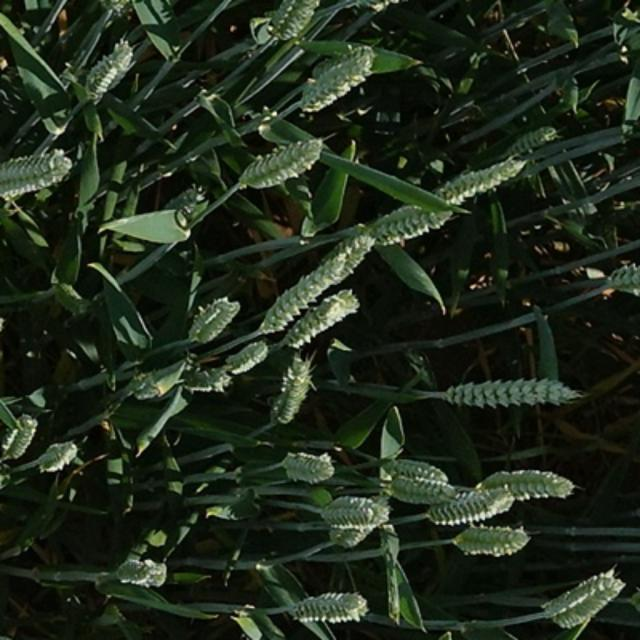healthy_wheat: (250, 0, 640, 640), (0, 0, 244, 640)
